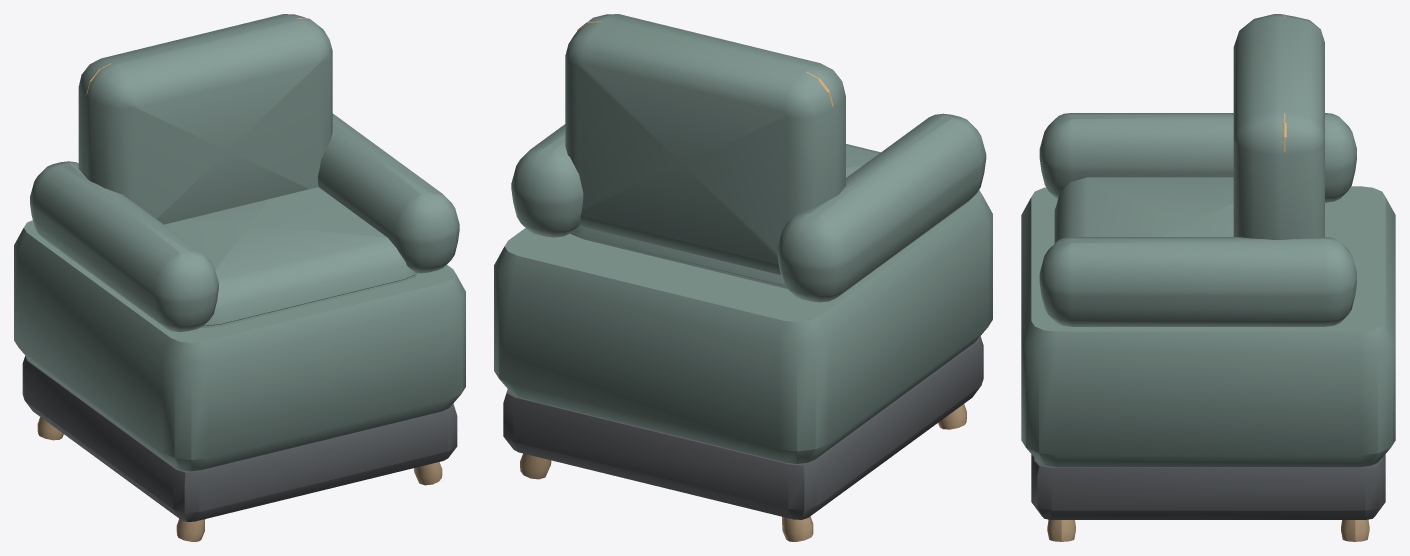
File: bakery-and-cafe-armchair-lounge-0a08ab59__22209.glb
3 renders of one model, left to right at view 1: azimuth 30°, elevation 25°; view 2: azimuth 150°, elevation 25°; view 3: azimuth 270°, elevation 25°, orthographic. The views are drawn at different scales.
Parts seen in each view (by area): view 1: armchair-lounge; view 2: armchair-lounge; view 3: armchair-lounge.
Boxes of the visible parts, x1,y1,x2,y2 form: armchair-lounge: (14, 14, 465, 541); armchair-lounge: (494, 14, 992, 541); armchair-lounge: (1021, 14, 1395, 541).
Bounding box in the file's own units: 0.727 × 0.9052 × 0.74.
